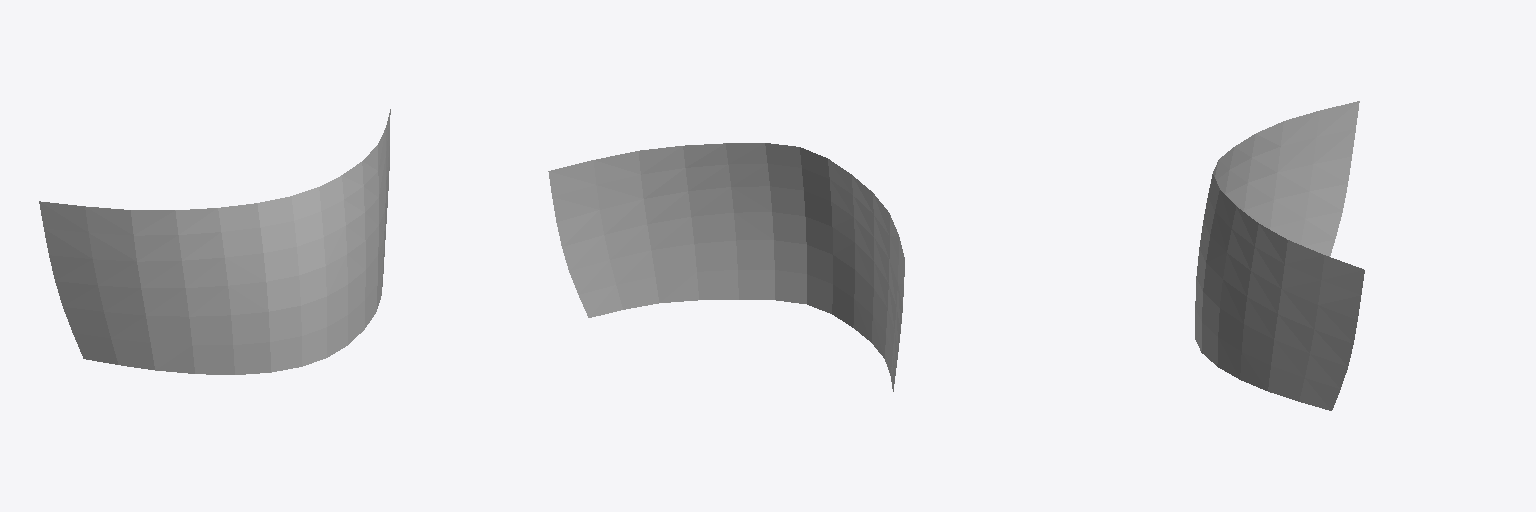
Rendered from NinjaLight.obj.
3 views of the same model, side by side, from view 1: azimuth 30°, elevation 25°; view 2: azimuth 150°, elevation 25°; view 3: azimuth 270°, elevation 25° (orthographic).
Visible parts, largest first — view 1: facelight; view 2: facelight; view 3: facelight.
Boxes of the visible parts, box(x1,y1,x2,y2) form: facelight: box(39, 109, 390, 374); facelight: box(548, 143, 904, 391); facelight: box(1195, 101, 1364, 410).
Bounding box in the file's own units: 0.1416 × 0.0642 × 0.0589.